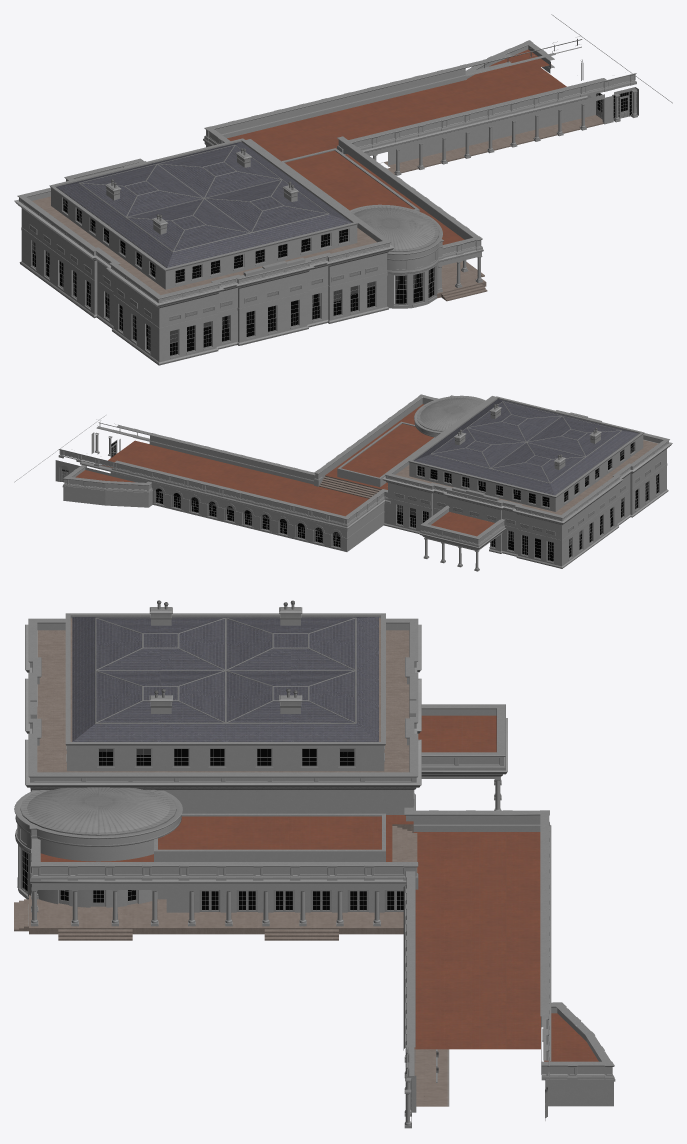
Rendered from white-house-west-v1.glb.
3 renders of one model, top to bottom at view 1: azimuth 30°, elevation 25°; view 2: azimuth 150°, elevation 25°; view 3: azimuth 270°, elevation 25°, orthographic. The views are drawn at different scales.
Parts seen in each view (by area): view 1: Object_9; view 2: Object_9; view 3: Object_9.
Boxes of the visible parts, left/top/right/bottom form: Object_9: left=14, top=14, right=672, bottom=365; Object_9: left=14, top=394, right=672, bottom=571; Object_9: left=14, top=600, right=615, bottom=1128.
Size of the model in its own units: 77.55 by 12.39 by 50.88.
1 material, 1 textured.
